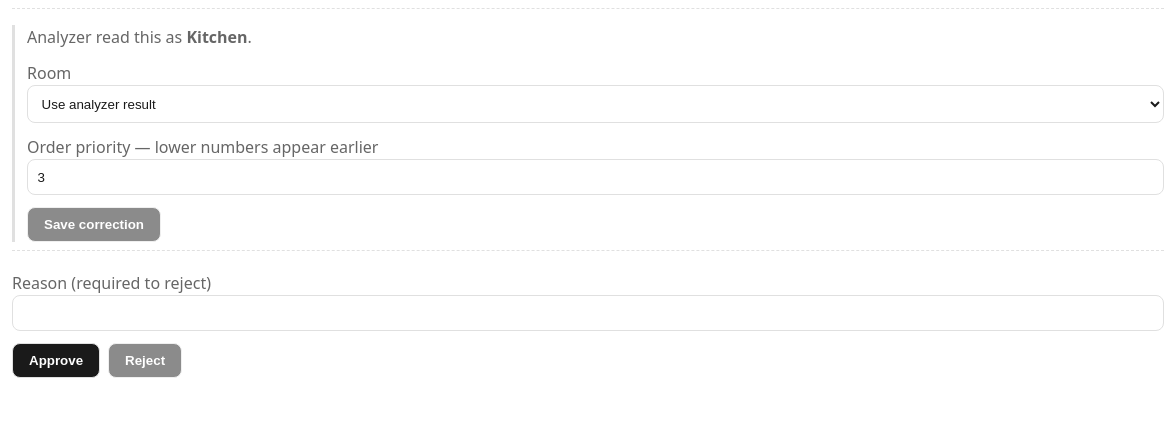
Test: unsaved corrections block the review decision › restores the decision when the reviewer discards the changes
Clear the field named "Order priority for a.jpg" at (596, 177), box [27,159,1164,195]
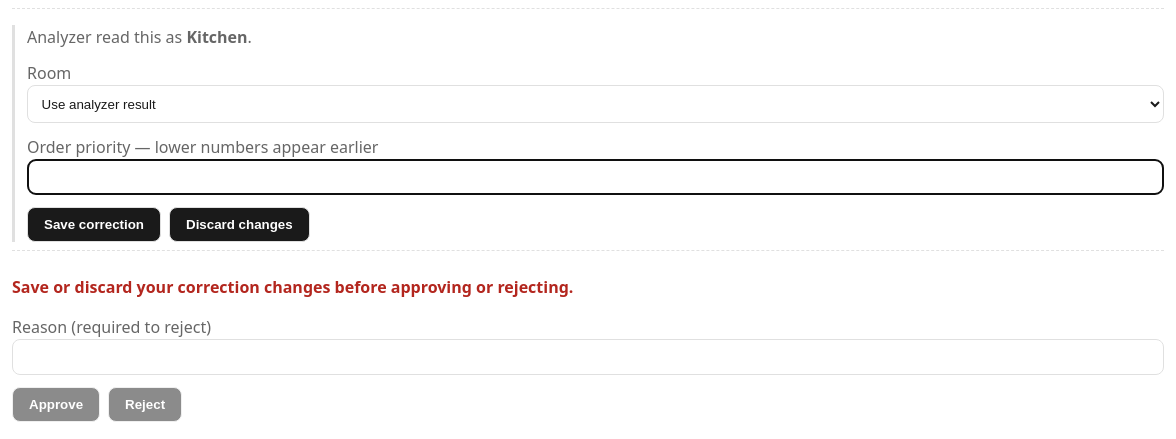
Now the button "Approve" is disabled, box [12,387,100,422]
Click the button "Discard changes".
click(239, 225)  # box [169,207,310,242]
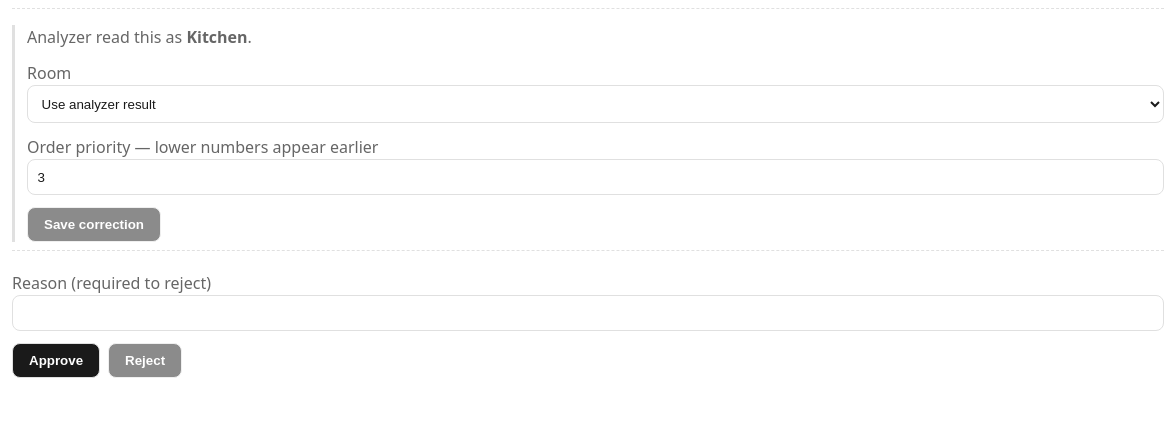
Now the button "Approve" is enabled, box [12,343,100,378]
Now the field named "Order priority for a.jpg" holds "3", box [27,159,1164,195]
